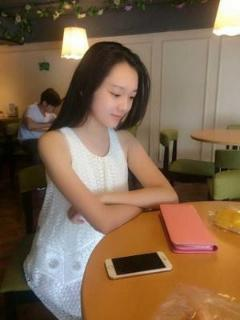short sleeve top: (17, 102, 58, 145)
skirt: (23, 239, 163, 319)
vest dress: (27, 125, 133, 287)
